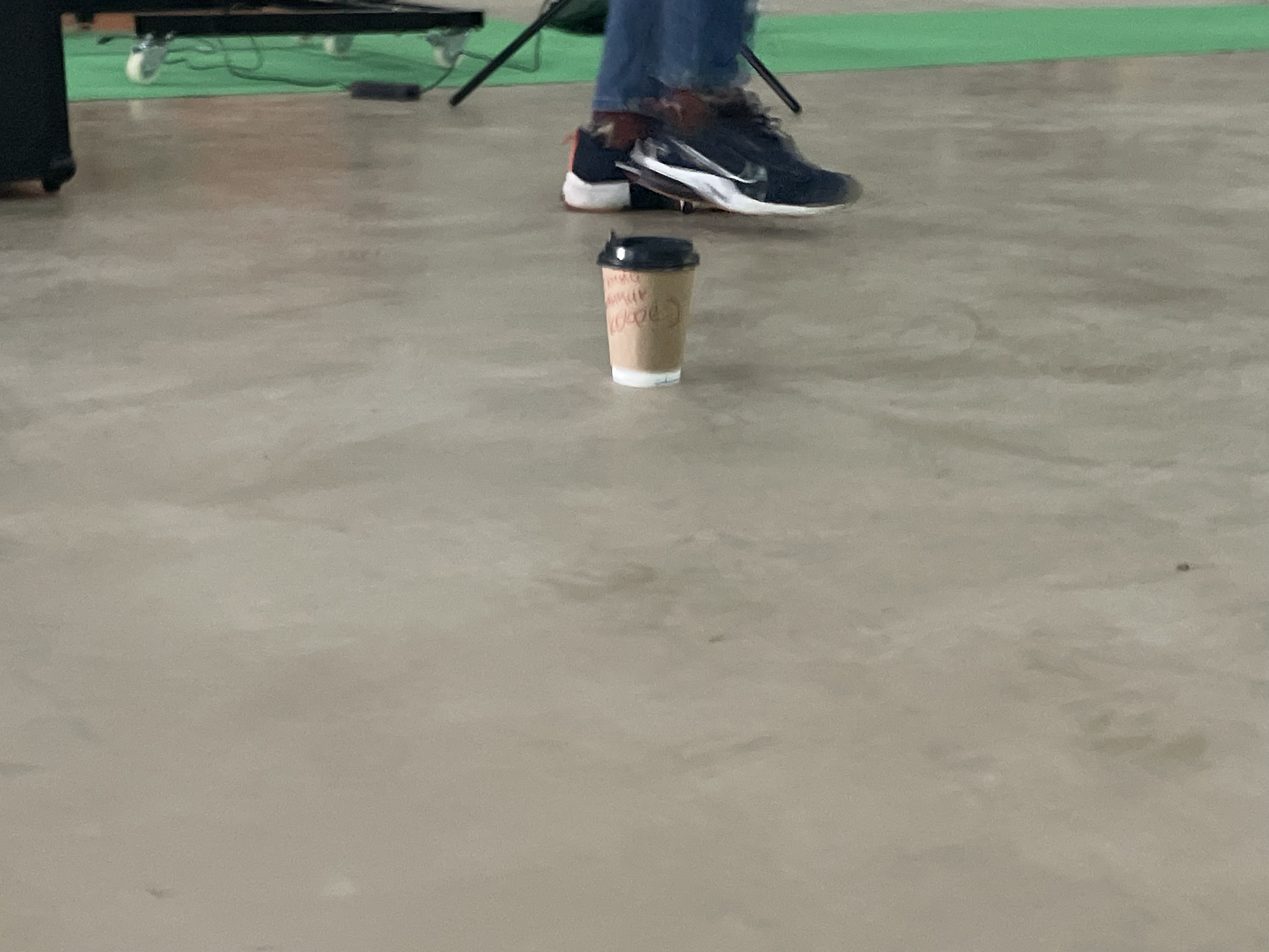cup: (596, 230, 700, 388)
